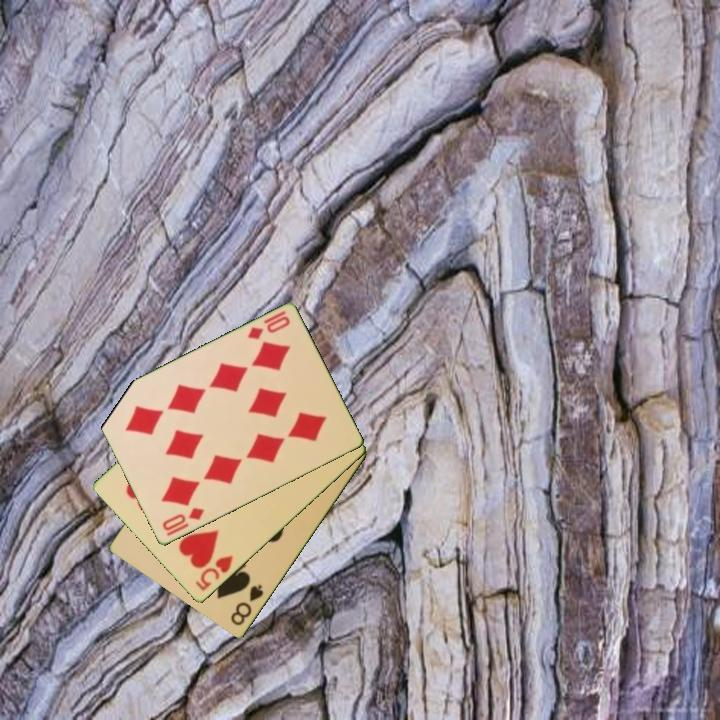10d: (244, 307, 293, 343), (158, 504, 207, 534)
5h: (191, 552, 236, 594)
8s: (227, 581, 267, 629)
